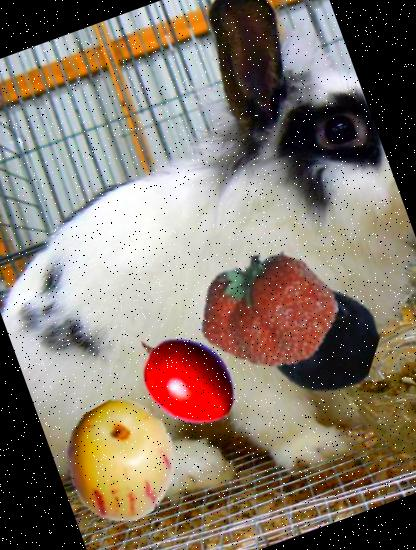Blueberry: (243, 264, 393, 414)
Pepino: (45, 386, 196, 536)
Strawberry: (179, 221, 357, 399)
Tamarillo: (114, 308, 254, 448)
